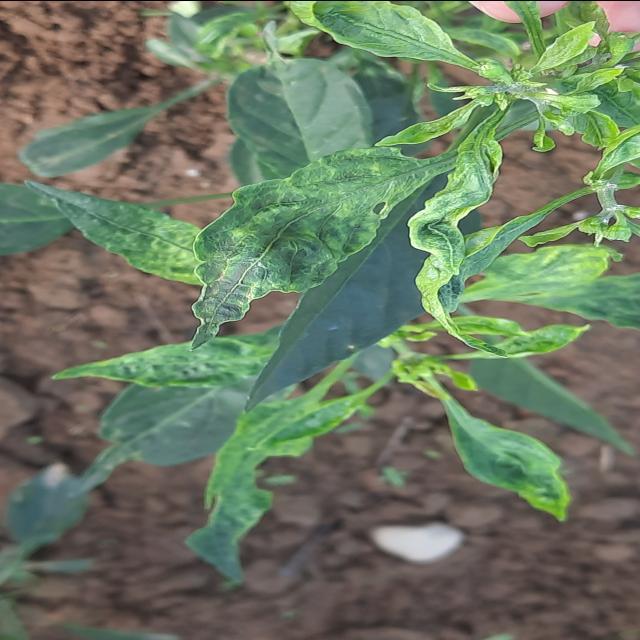thrips: (186, 138, 518, 358), (20, 172, 186, 278), (254, 0, 486, 66)
